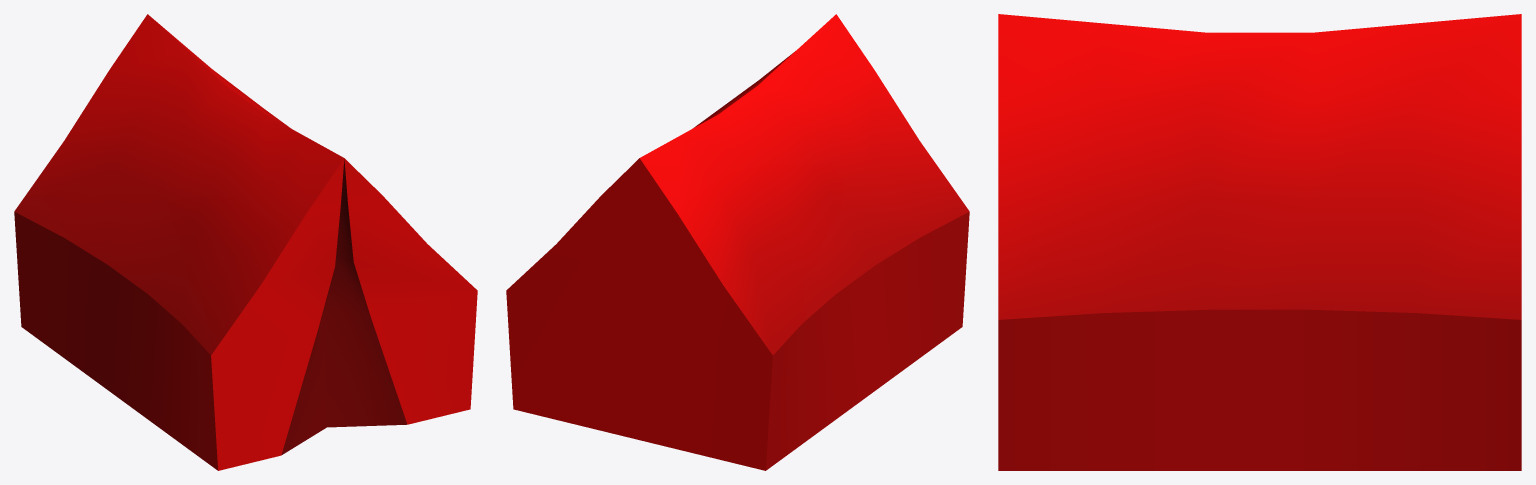
The model's file is buildings-tents-tent_v1.fbx.
The picture shows the model from 3 angles, left to right: view 1: azimuth 30°, elevation 25°; view 2: azimuth 150°, elevation 25°; view 3: azimuth 270°, elevation 25°; orthographic projection. The views are drawn at different scales.
Parts seen in each view (by area): view 1: Tent.001; view 2: Tent.001; view 3: Tent.001.
Boxes of the visible parts, left/top/right/bottom form: Tent.001: left=14, top=14, right=477, bottom=470; Tent.001: left=506, top=14, right=969, bottom=470; Tent.001: left=998, top=14, right=1521, bottom=470.
Bounding box in the file's own units: 2.06 × 2.09 × 2.64.
